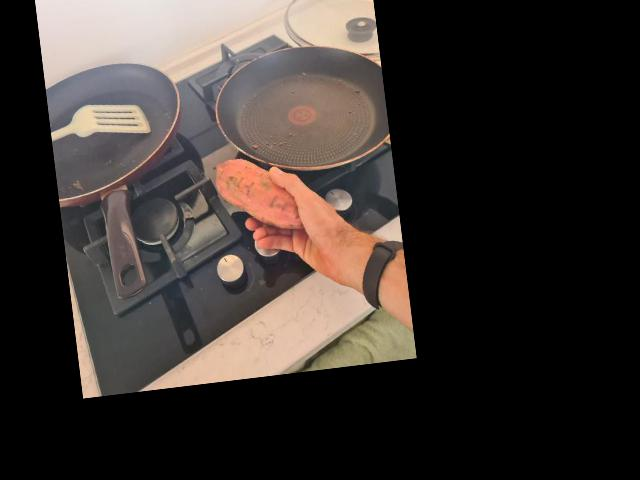sweet_potato: (212, 152, 304, 239)
